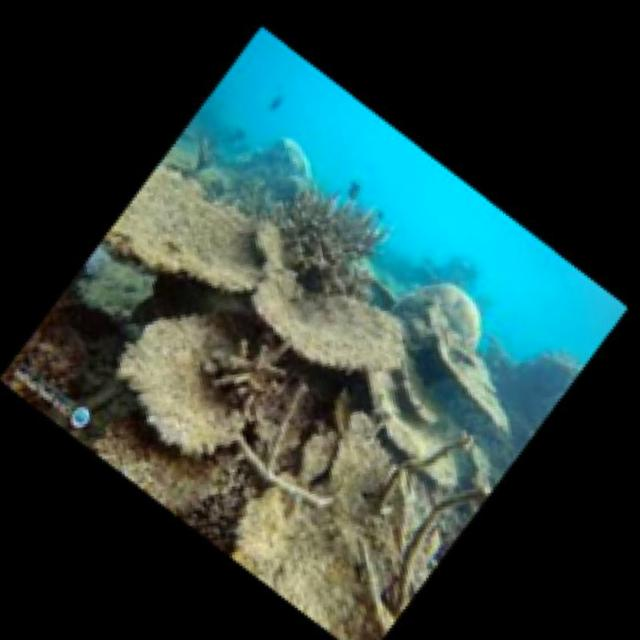Dead Coral: (214, 374, 453, 632), (353, 249, 535, 511), (221, 174, 429, 401), (99, 281, 303, 474), (82, 155, 295, 323)
